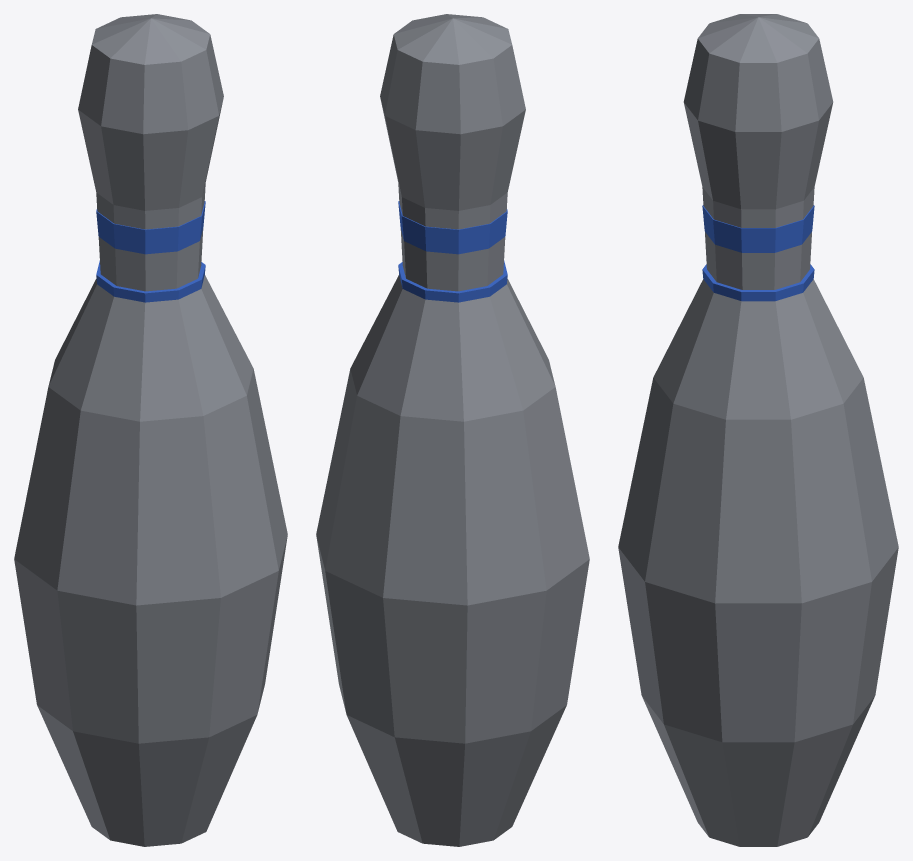
Rendered from bowl_lead_pin.glb.
The picture shows the model from 3 angles, left to right: view 1: azimuth 30°, elevation 25°; view 2: azimuth 150°, elevation 25°; view 3: azimuth 270°, elevation 25°; orthographic projection.
Visible parts, largest first — view 1: pin_lead_grey, stripe_lead_stripe; view 2: pin_lead_grey, stripe_lead_stripe; view 3: pin_lead_grey, stripe_lead_stripe.
Boxes of the visible parts, x1=… form: pin_lead_grey: x1=14, y1=14, x2=287, y2=846; stripe_lead_stripe: x1=96, y1=201, x2=205, y2=302; pin_lead_grey: x1=316, y1=14, x2=589, y2=846; stripe_lead_stripe: x1=398, y1=201, x2=507, y2=302; pin_lead_grey: x1=618, y1=14, x2=898, y2=846; stripe_lead_stripe: x1=702, y1=205, x2=814, y2=301.
Size of the model in its own units: 0.1141 by 0.38 by 0.12.
